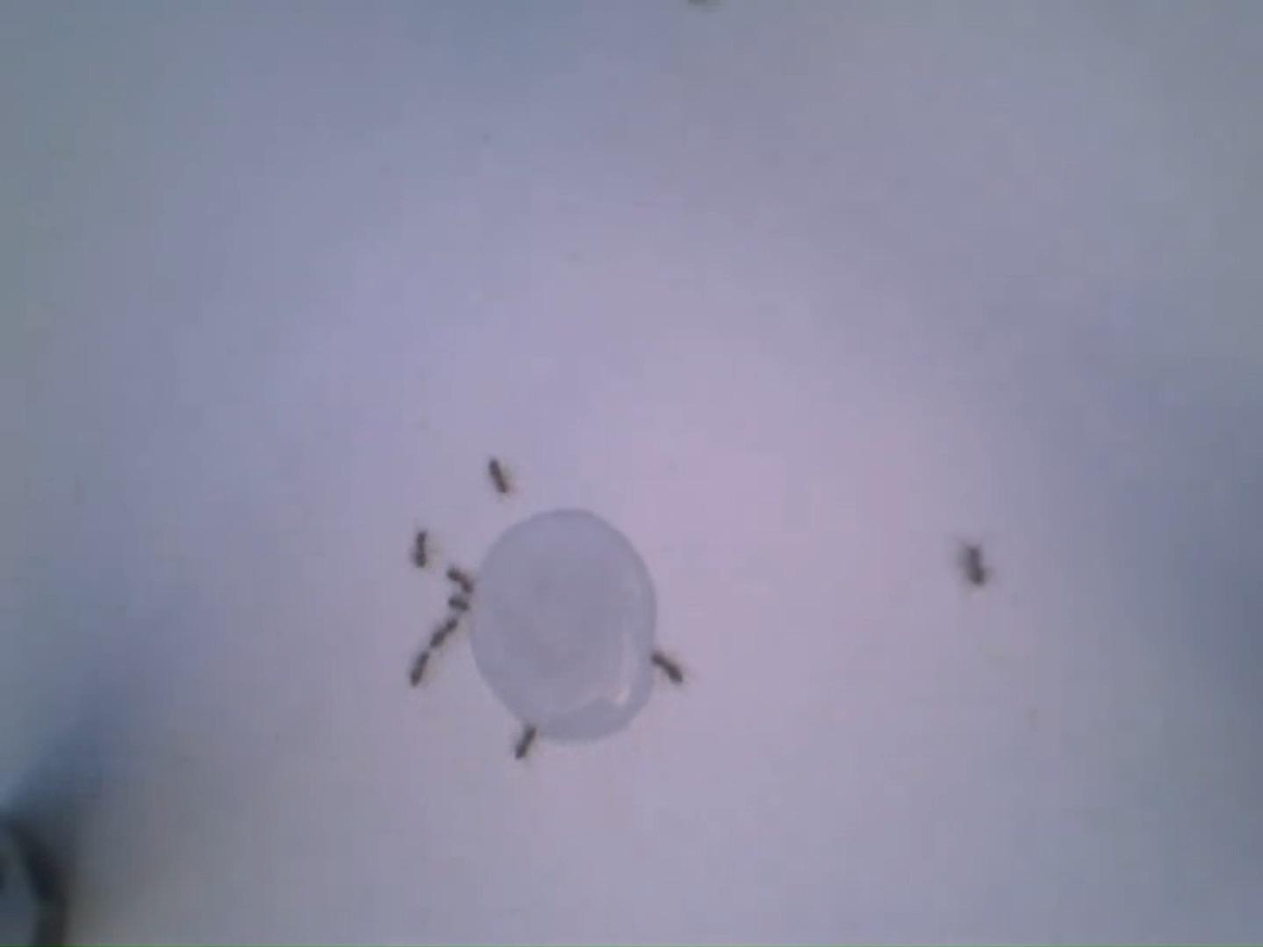Ant: (428, 616, 458, 654), (653, 650, 687, 683), (965, 540, 990, 584), (514, 724, 539, 761), (409, 647, 431, 688), (490, 455, 513, 494), (446, 564, 478, 591), (414, 527, 433, 568), (447, 593, 475, 615)
